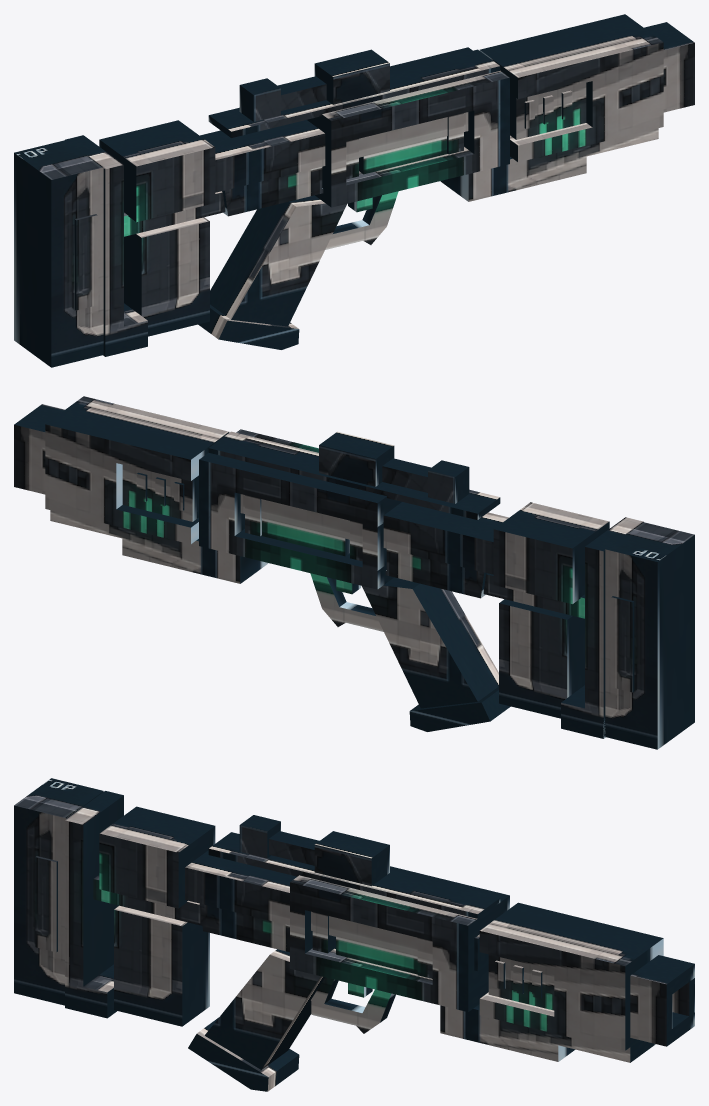
Rendered from plasma_carbine.obj.
The picture shows the model from 3 angles, top to bottom: view 1: azimuth 30°, elevation 25°; view 2: azimuth 150°, elevation 25°; view 3: azimuth 330°, elevation 25°; orthographic projection.
Size of the model in its own units: 1.99 by 0.7486 by 0.2213.
